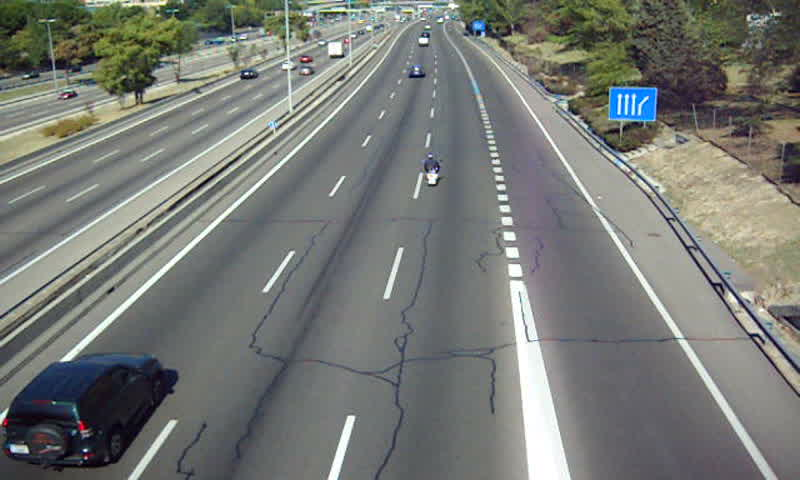car: (4, 354, 163, 468), (406, 65, 427, 80)
motorcycle: (422, 154, 440, 187)
